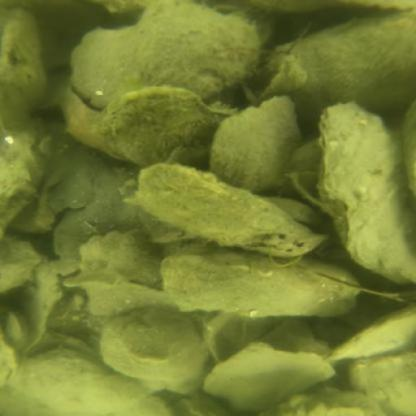Oyster- Indeterminate: (4, 307, 30, 352)
Oyster-Closed: (68, 0, 262, 107), (314, 97, 416, 289), (134, 161, 327, 259), (266, 7, 415, 125), (159, 252, 364, 318), (4, 347, 177, 416), (93, 88, 242, 167), (99, 306, 207, 398), (207, 90, 302, 191), (0, 8, 51, 139), (325, 303, 415, 364)
